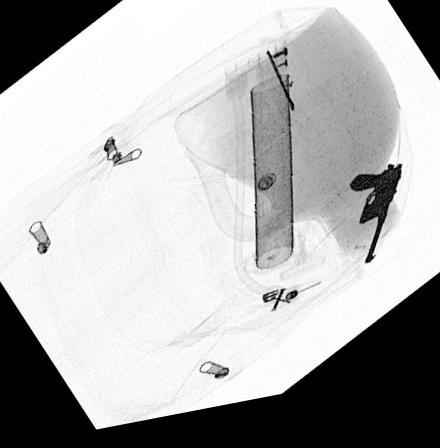Gun: (347, 178, 400, 278)
